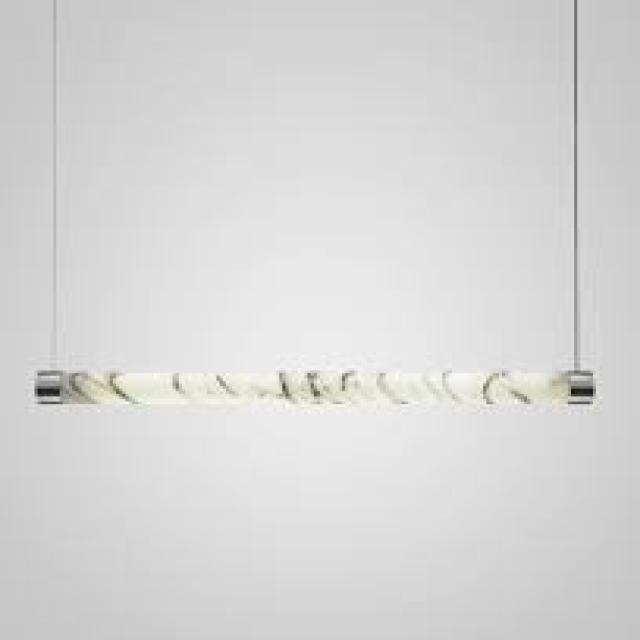tubelight_off: (36, 368, 601, 408)
